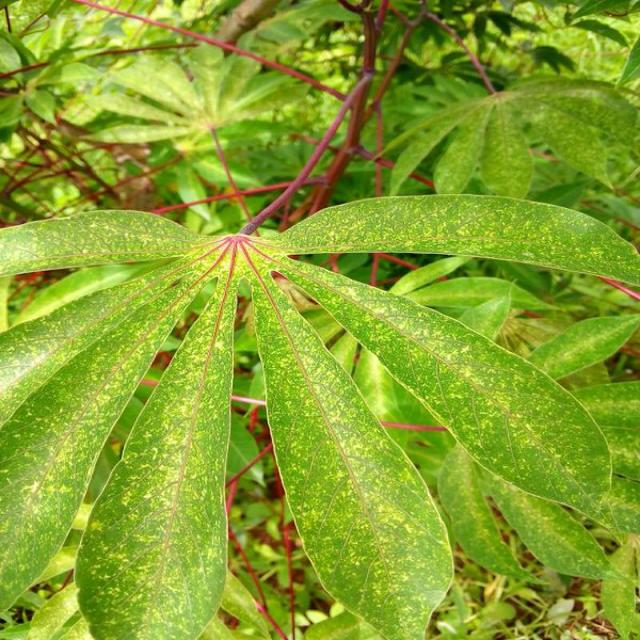cassava leaf: (1, 185, 638, 638), (270, 252, 616, 520), (250, 258, 456, 638), (74, 262, 238, 638)
